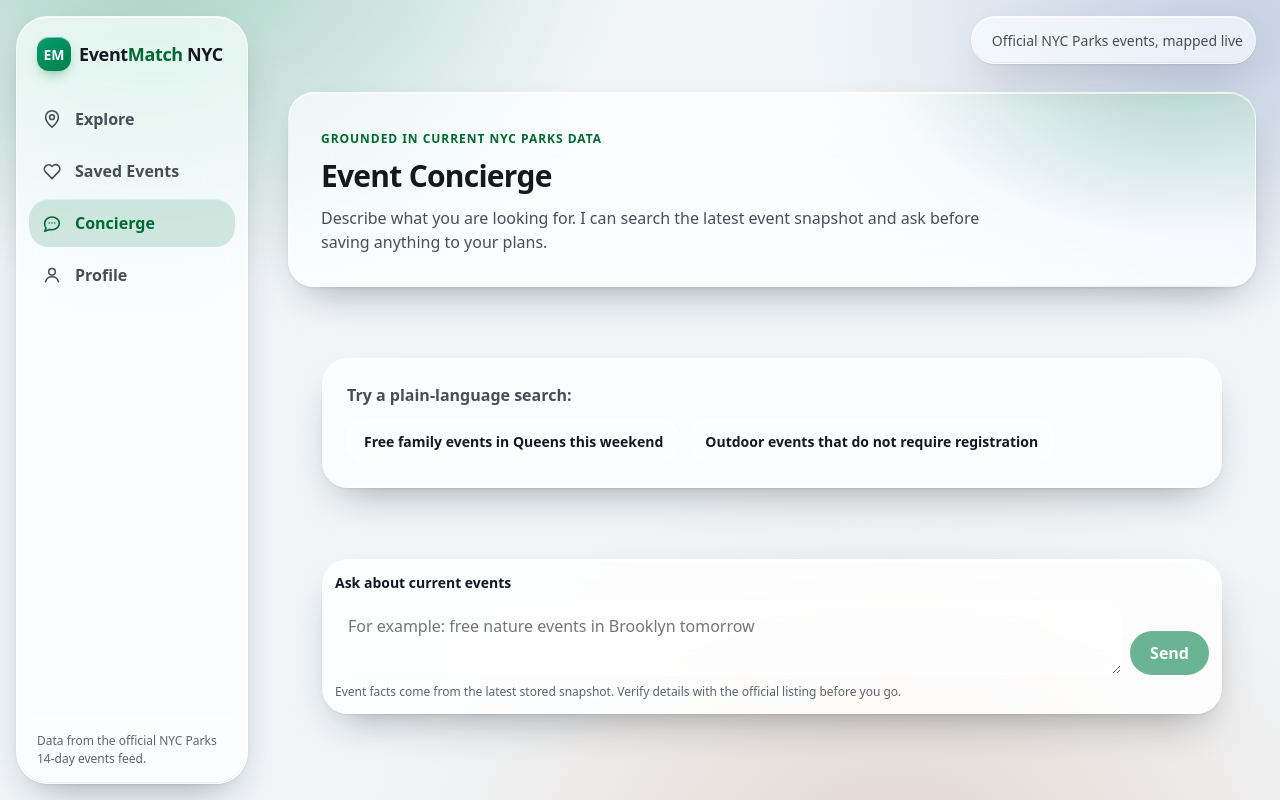
Test: ConciergeView › sends a plain-language question and renders the answer
Type "Free events in Queens" into the text box labelled "Ask about current events" at (729, 638), box x1=335 y1=601 x2=1122 y2=675
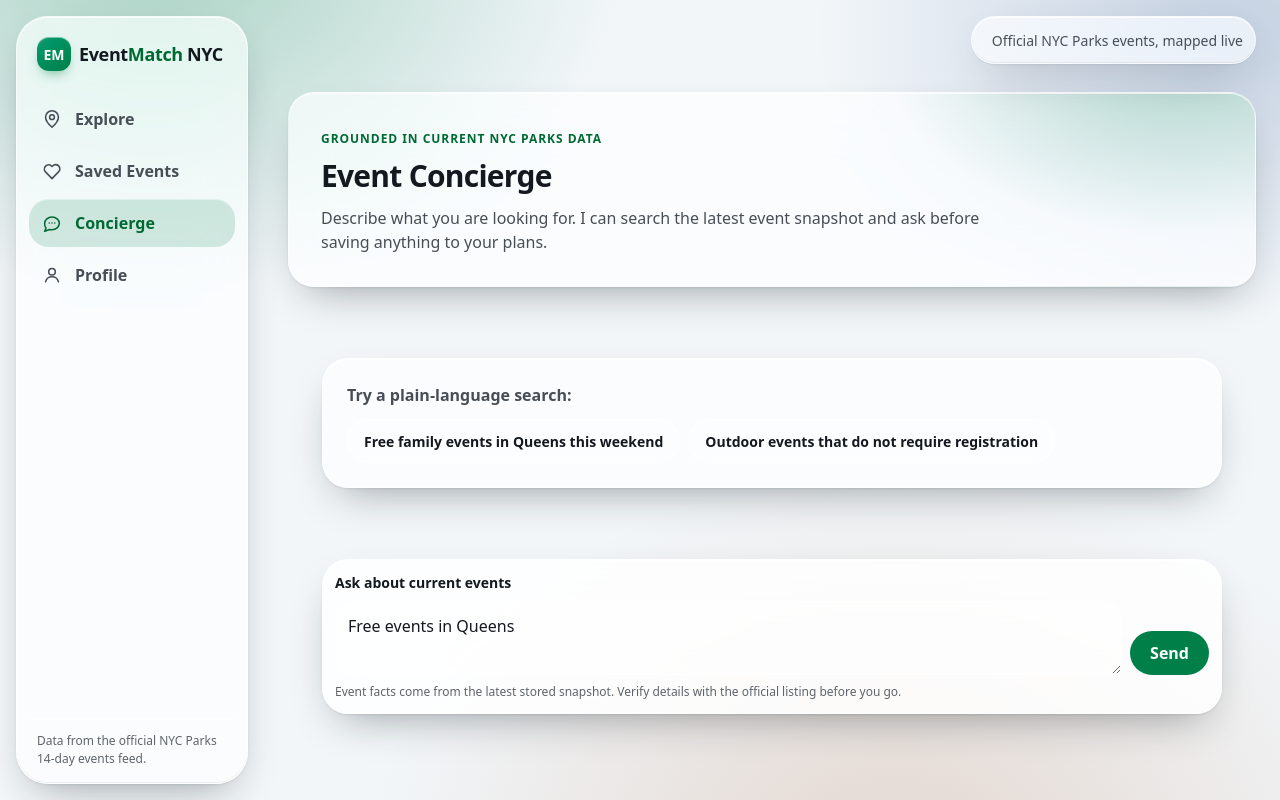
Click the button "Send" at (1170, 653), box x1=1130 y1=631 x2=1209 y2=675
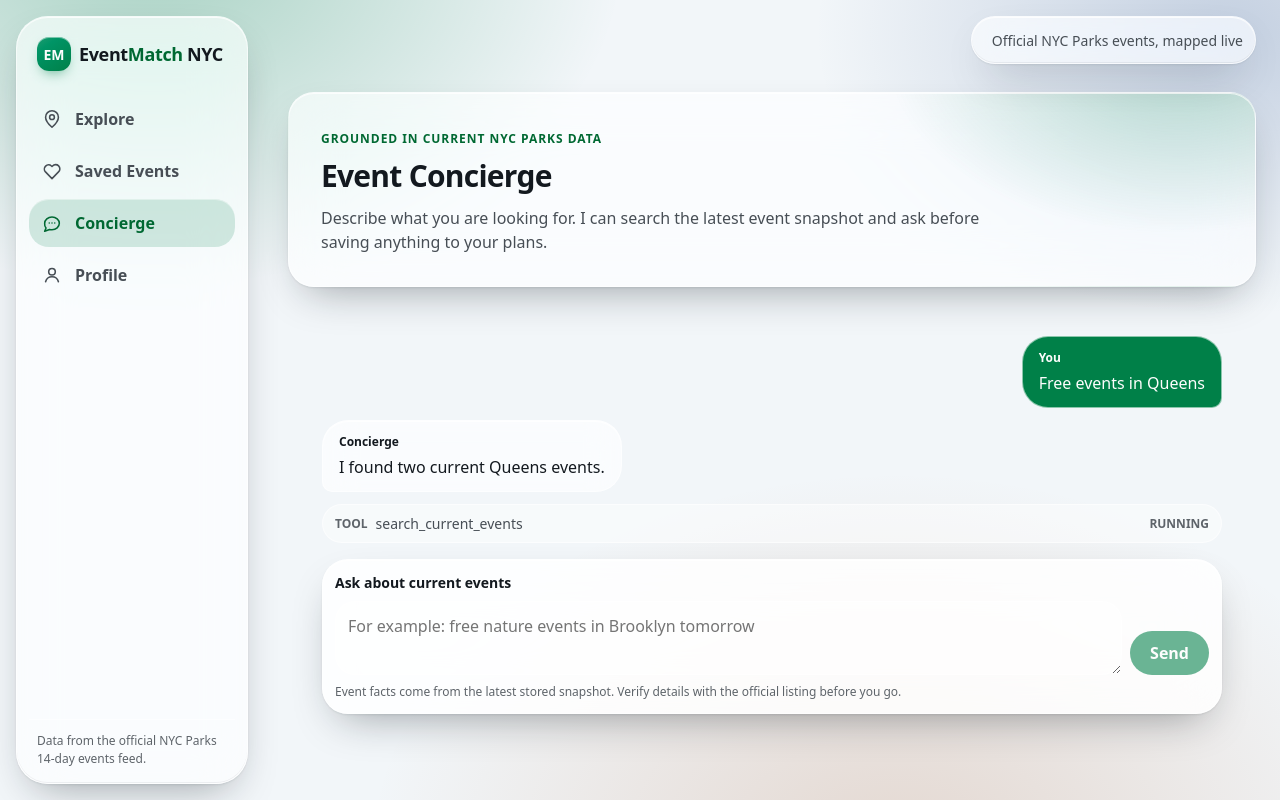
Result: the text "I found two current Queens events." is shown at x1=339 y1=455 x2=605 y2=479
Result: the element with test id "concierge-tool-call" shows "search_current_events" at x1=376 y1=514 x2=523 y2=533
